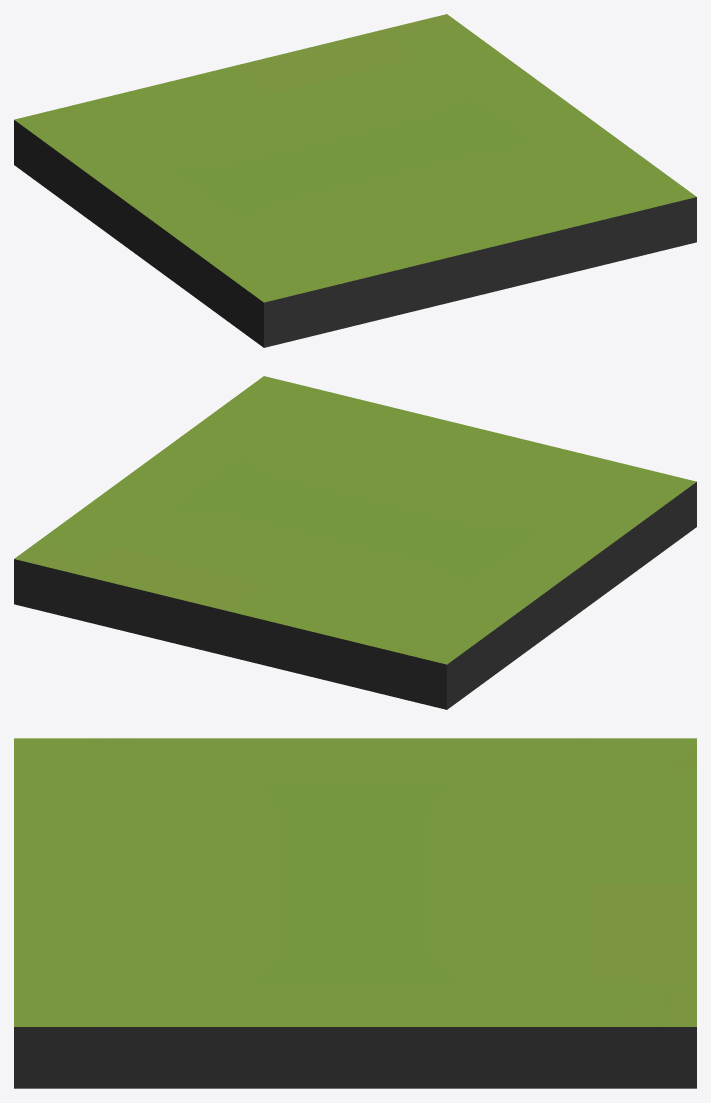
The model's file is earth.fbx.
3 renders of one model, top to bottom at view 1: azimuth 30°, elevation 25°; view 2: azimuth 150°, elevation 25°; view 3: azimuth 270°, elevation 25°, orthographic. The views are drawn at different scales.
Parts seen in each view (by area): view 1: block; view 2: block; view 3: block.
Boxes of the visible parts, x1,y1,x2,y2 form: block: (14, 14, 696, 347); block: (14, 376, 696, 709); block: (14, 738, 696, 1088).
Bounding box in the file's own units: 200 × 200 × 20.
1 material, 1 textured.
